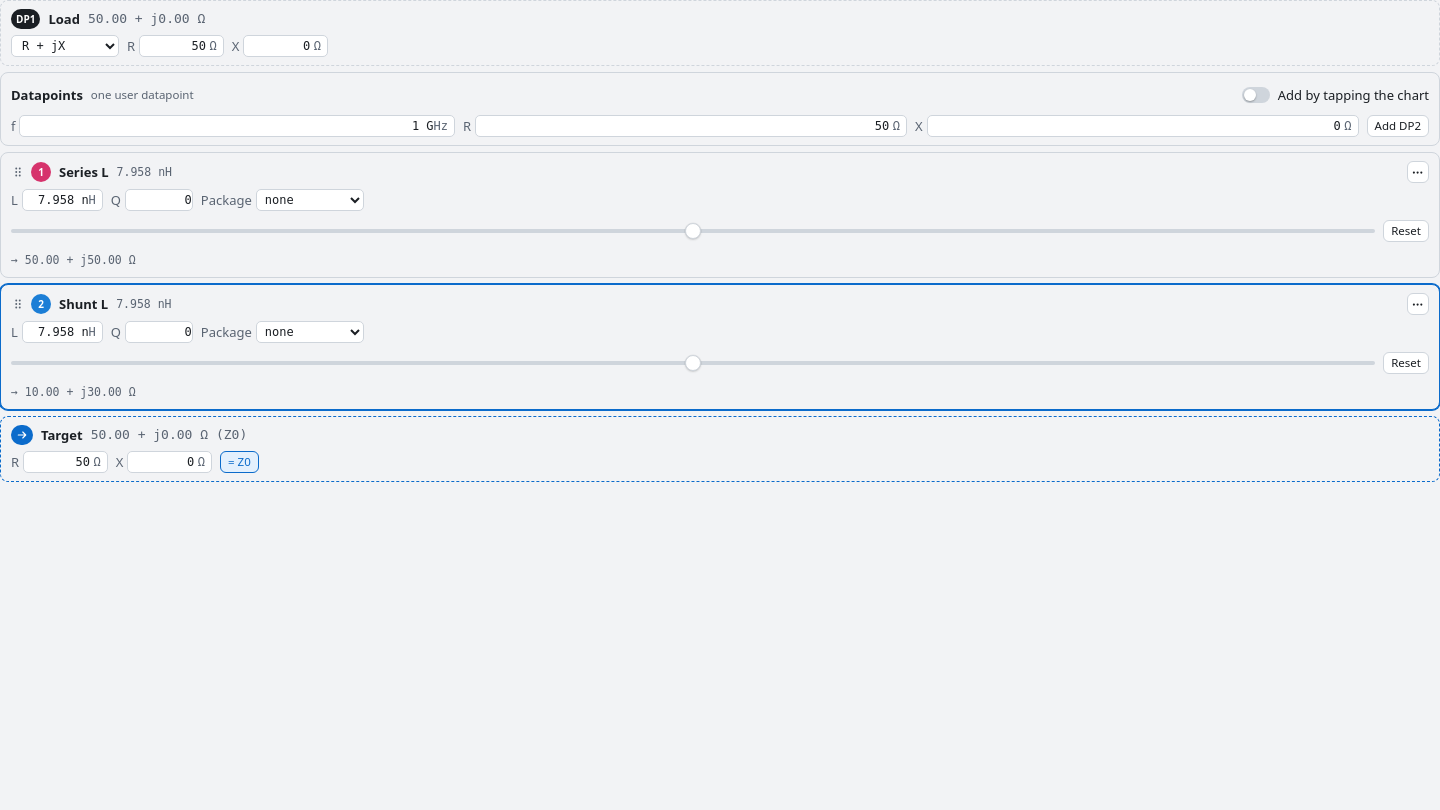
Test: ladder card controls › Escape closes the overflow menu without acting
This screenshot has width=1440, height=810.
Click the button named "More for element 2": coordinates (1418, 304) [1407,293,1429,315]
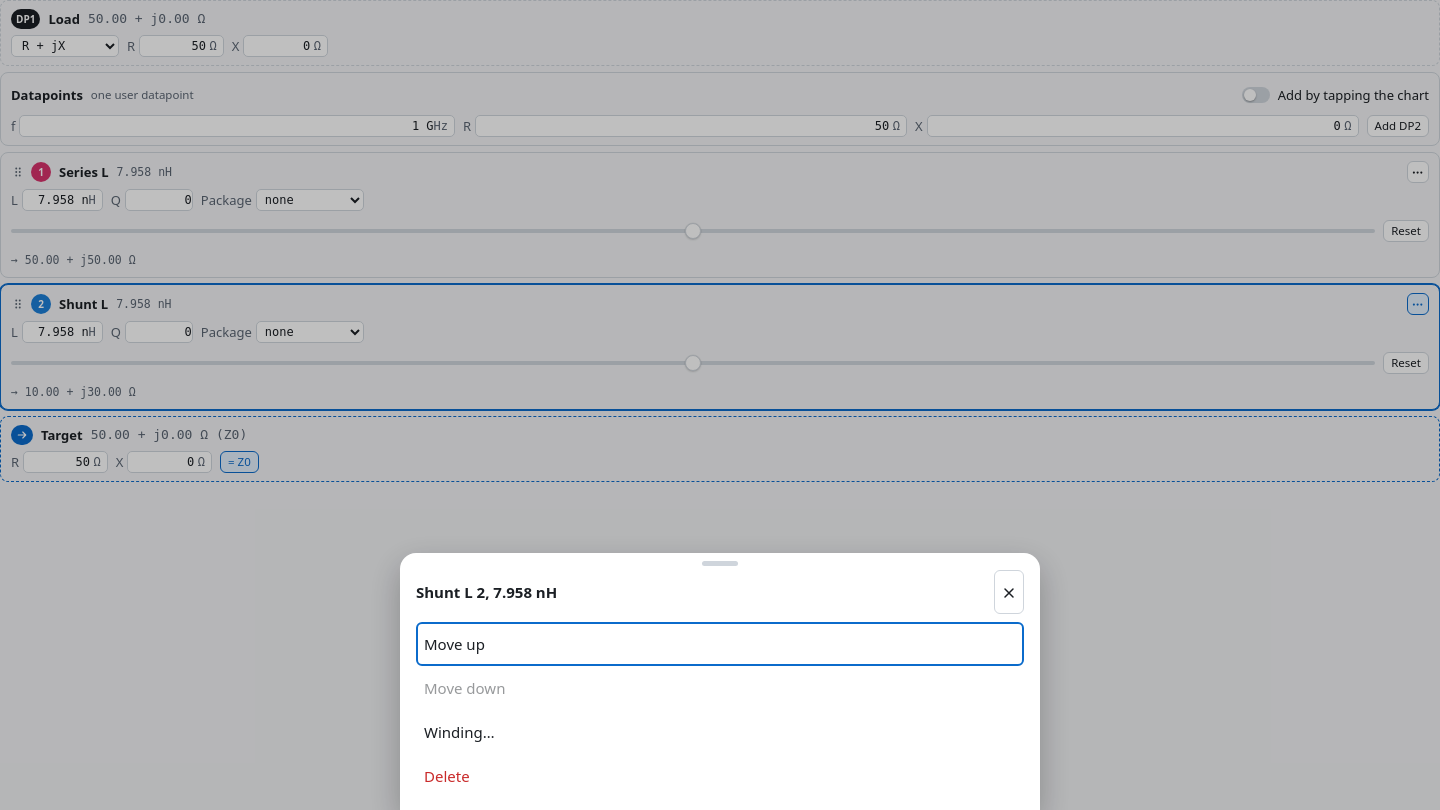
expect the menu is shown: met, box [416,622,1024,798]
Press Escape
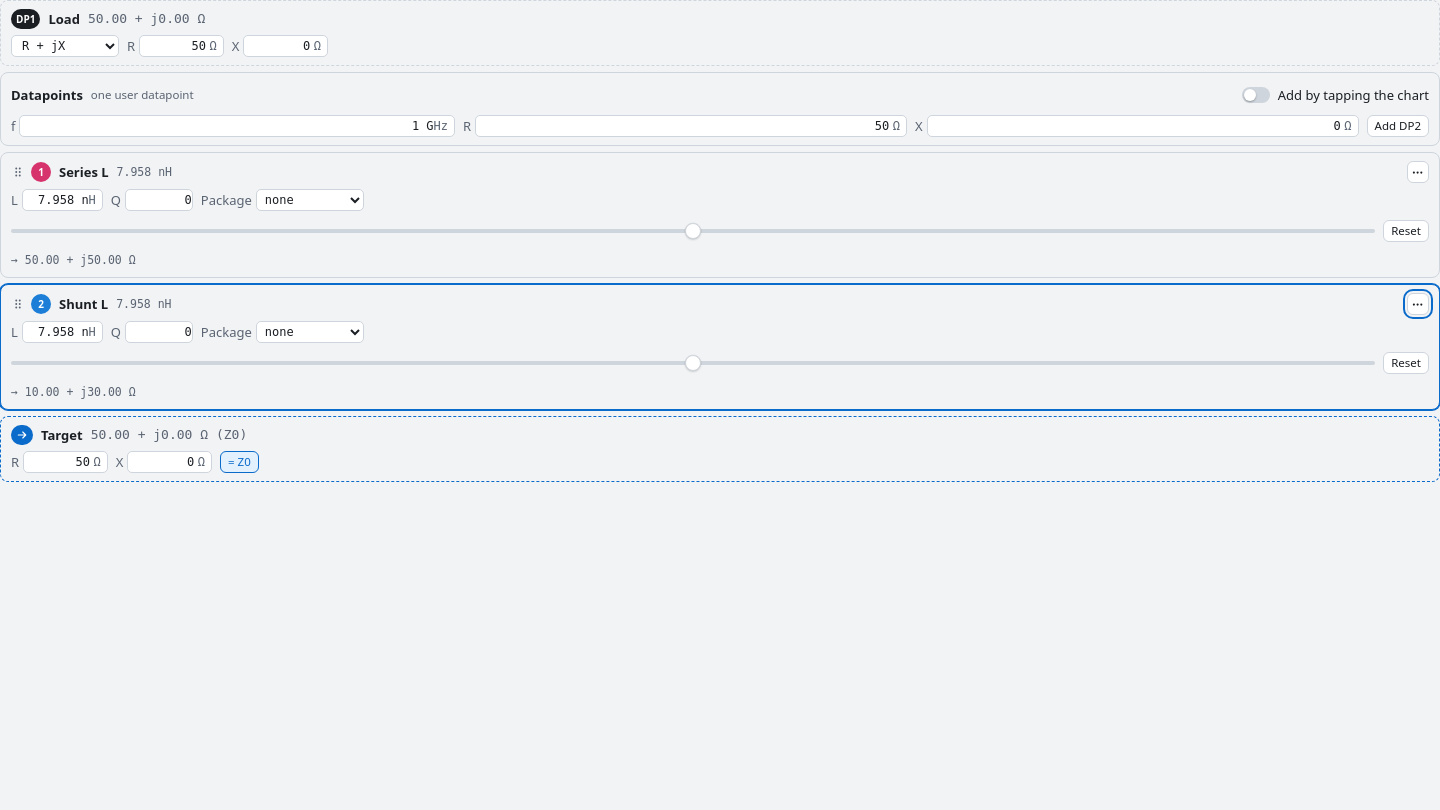
expect the menu is gone: met
